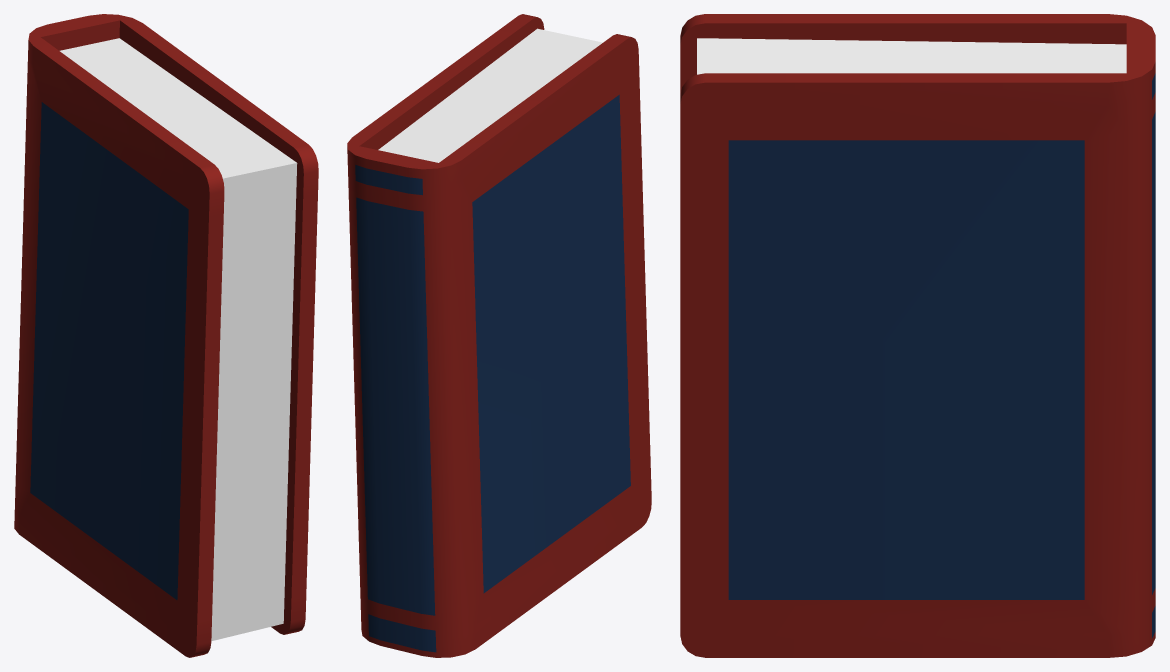
File: book_6.fbx
The picture shows the model from 3 angles, left to right: view 1: azimuth 30°, elevation 25°; view 2: azimuth 150°, elevation 25°; view 3: azimuth 270°, elevation 25°; orthographic projection. The views are drawn at different scales.
Parts seen in each view (by area): view 1: book_6; view 2: book_6; view 3: book_6.
Part boxes in pixels (bbox=[...]): book_6: bbox=[14, 14, 318, 657]; book_6: bbox=[347, 14, 651, 657]; book_6: bbox=[680, 14, 1155, 657].
Size of the model in its own units: 0.0892 by 0.336 by 0.2462.
